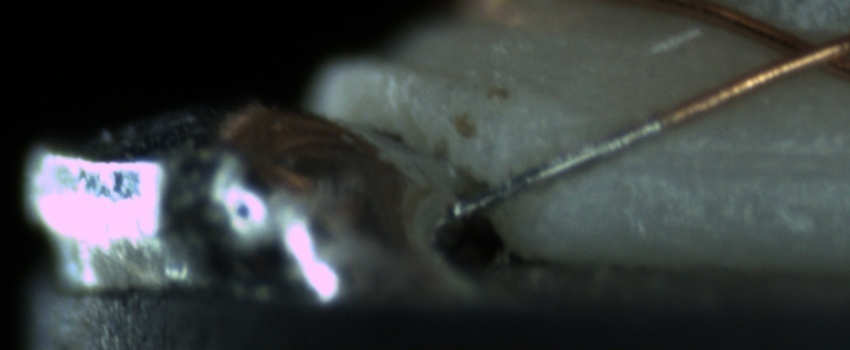CL: (756, 25, 848, 84)
DL: (612, 126, 844, 192)
TS: (455, 111, 662, 221)
